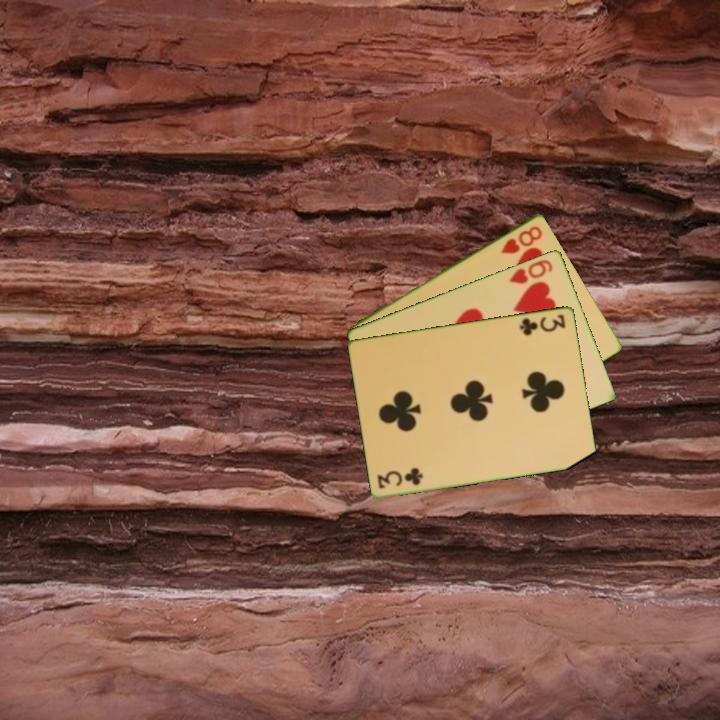3c: (516, 310, 568, 338), (374, 466, 426, 491)
6h: (505, 256, 556, 287)
8h: (498, 222, 545, 257)
